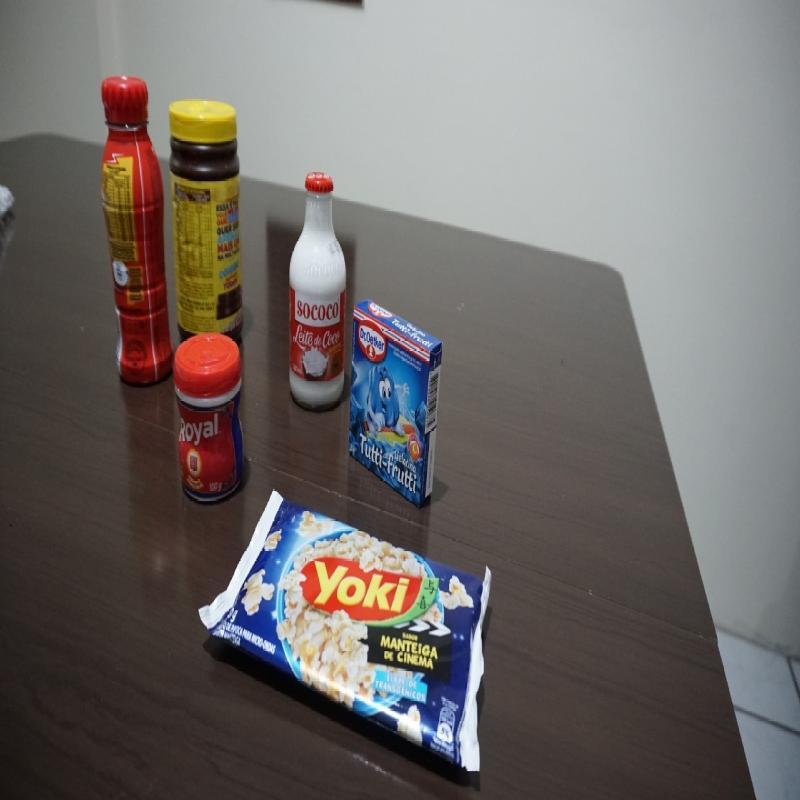Chocolate Milk: (97, 71, 174, 386)
Chocolate Powder: (168, 95, 248, 344)
Coconut Milk: (285, 172, 346, 416)
Gelatine: (346, 298, 446, 509)
Popcorn: (198, 487, 496, 772)
Yeast: (173, 328, 248, 504)
